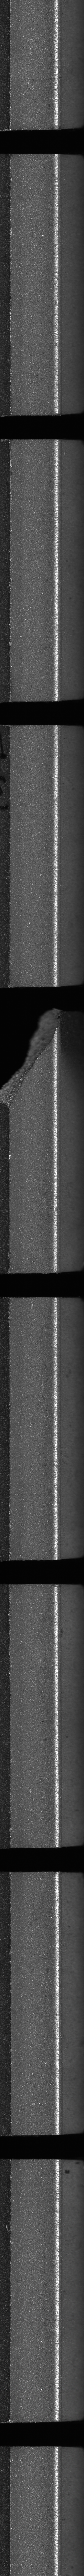Chip: (0, 1004, 64, 1114)
